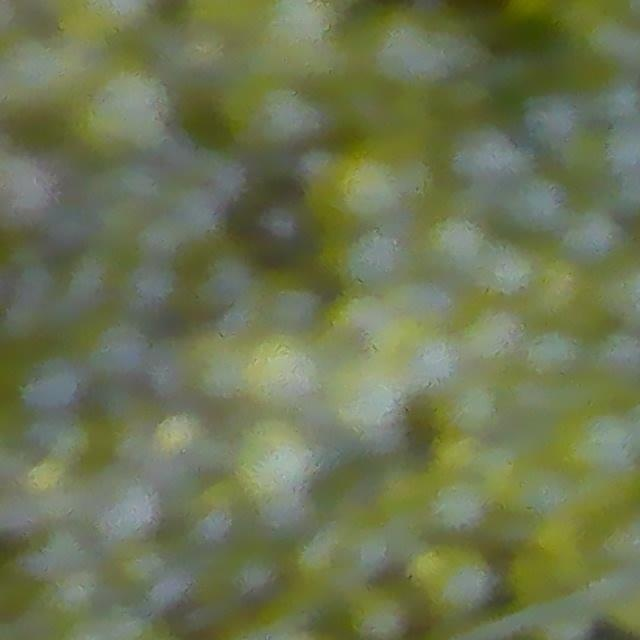SeaGrape: (77, 58, 171, 159), (231, 417, 320, 504), (241, 329, 326, 414), (233, 77, 320, 151), (321, 221, 408, 294), (417, 540, 493, 620), (75, 310, 152, 386), (447, 120, 524, 188), (254, 268, 325, 340), (418, 212, 491, 279), (500, 170, 570, 237), (96, 476, 158, 541), (560, 207, 623, 270)
